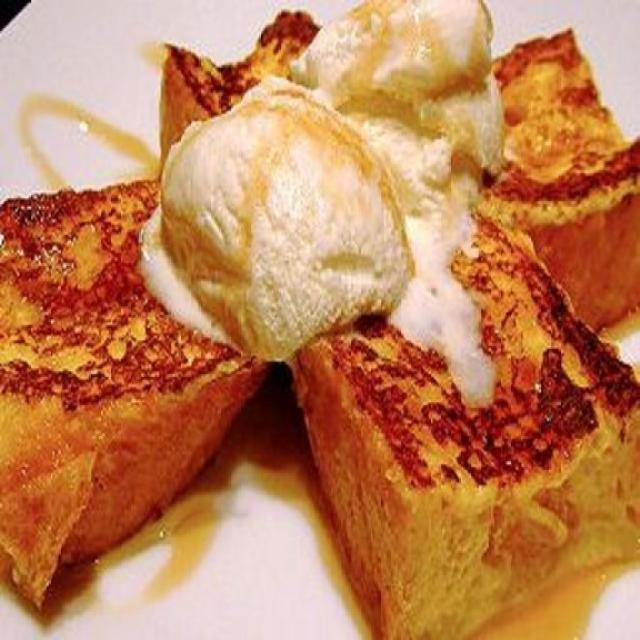面包点心: (3, 10, 626, 621)
